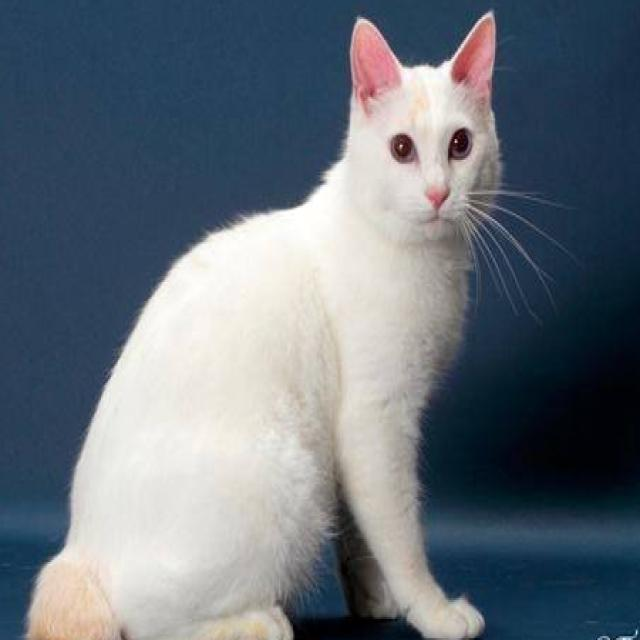American Bobtail: (21, 2, 506, 640)
